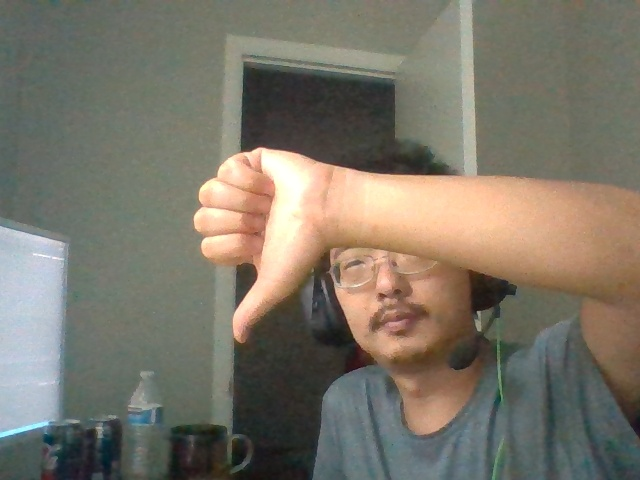ThumbsDown: (193, 146, 333, 344)
